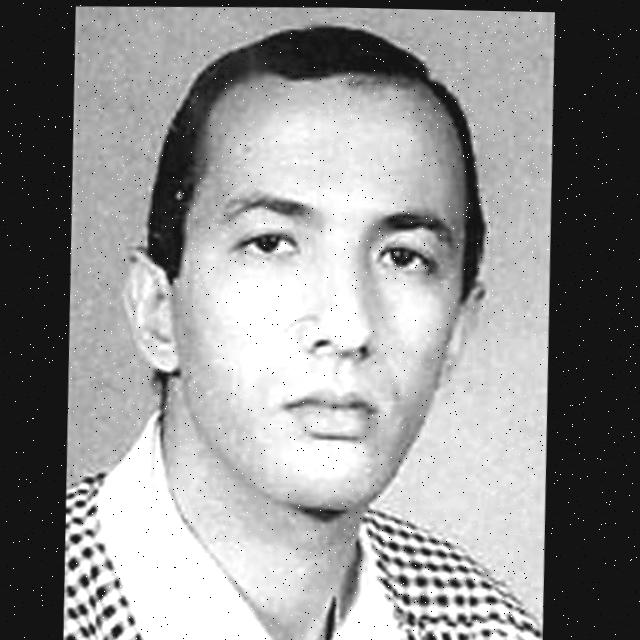face: (105, 20, 521, 558)
